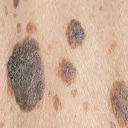Melanoma: (8, 39, 45, 112), (110, 81, 128, 126), (65, 18, 86, 49), (60, 60, 77, 84)
